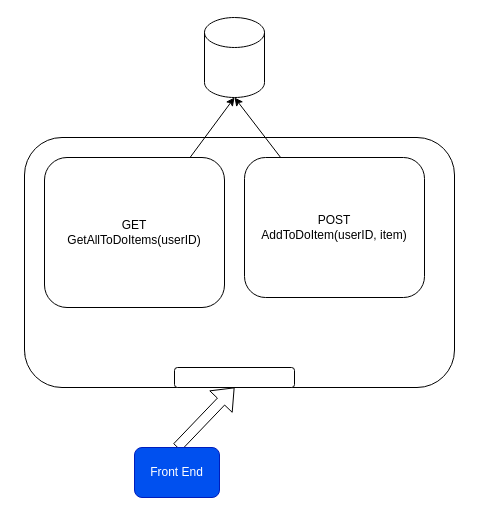
Image size: 480x515. Some labels were removed from this diagram. Here are the shapes that lost their labels. From the top down, the centre of each, then its label:
(234,57): DB
(234,377): REST API
